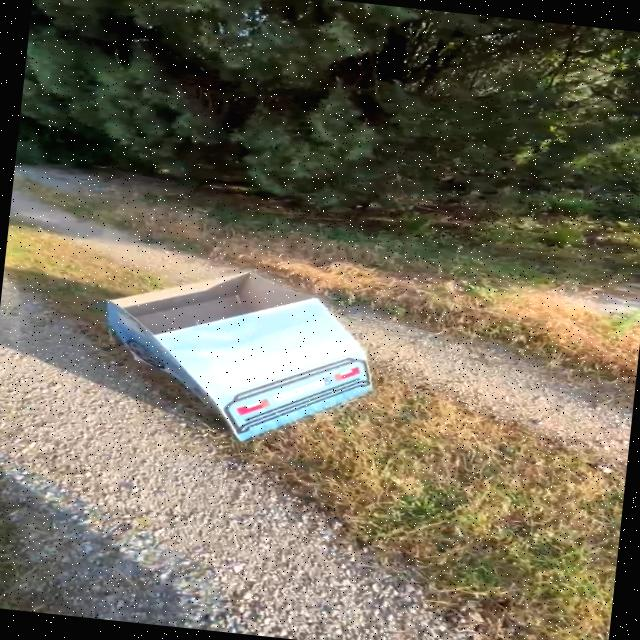blue_car: (61, 236, 402, 469)
